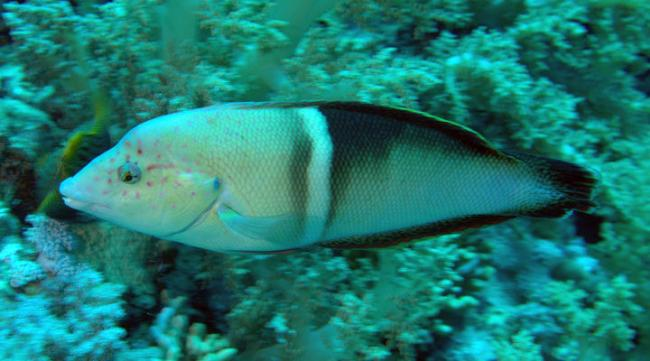fish: (58, 99, 599, 256)
